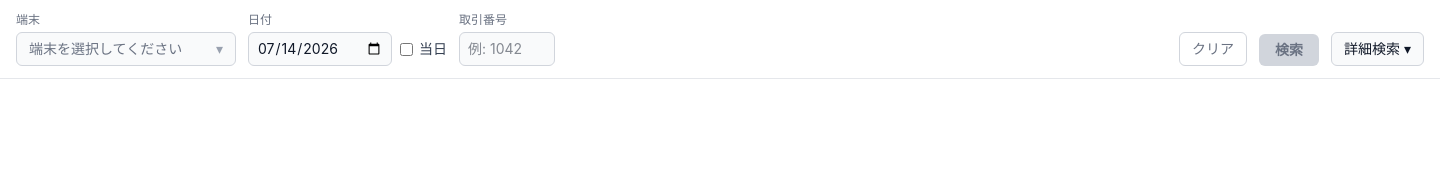
Test case: SearchBar › 範囲入力のバリデーション › 取引番号範囲がfrom > toのとき、エラーメッセージを表示し検索ボタンを無効化する
This screenshot has width=1440, height=195.
Click the button "端末を選択してください ▾" at (126, 49), box x1=16 y1=32 x2=236 y2=66
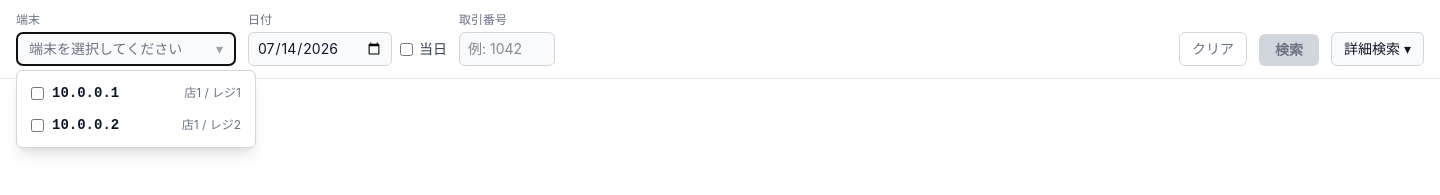
Click the text "10.0.0.1" at (86, 93), box x1=52 y1=83 x2=119 y2=103
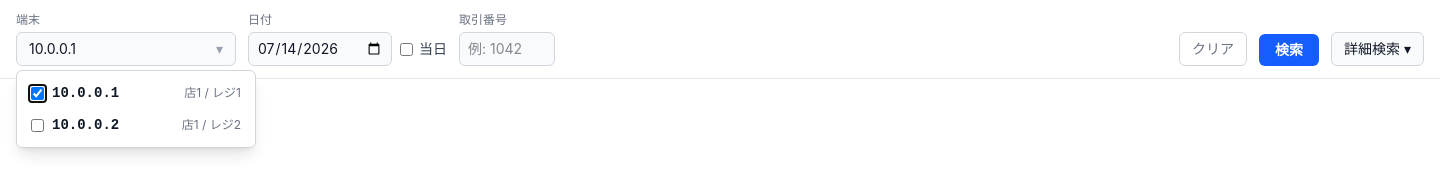
Click the button "詳細検索 ▾" at (1378, 49), box x1=1331 y1=32 x2=1424 y2=66
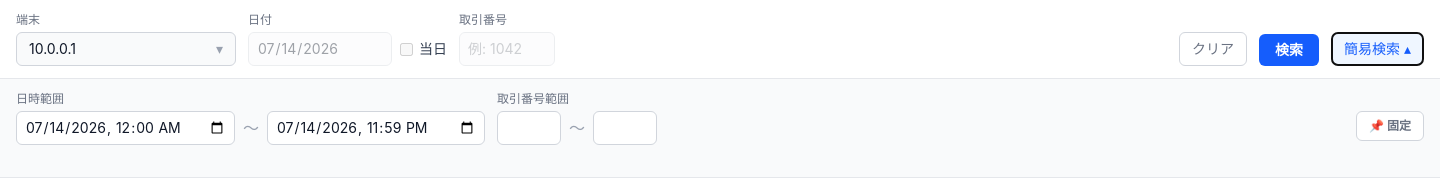
Type "20" into the number field named "取引番号範囲(開始)" at (529, 128), box x1=497 y1=111 x2=561 y2=145
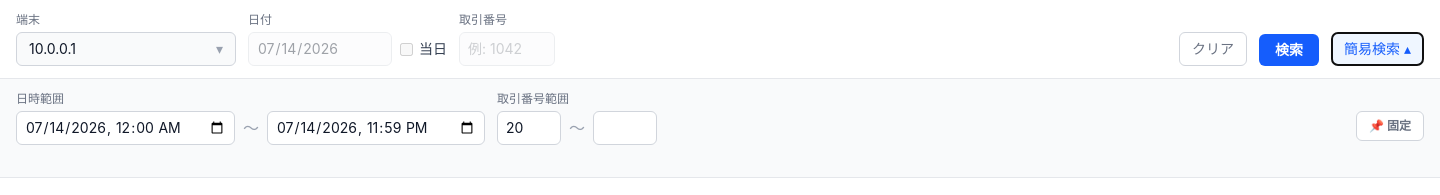
Type "10" into the number field named "取引番号範囲(終了)" at (625, 128), box x1=593 y1=111 x2=657 y2=145
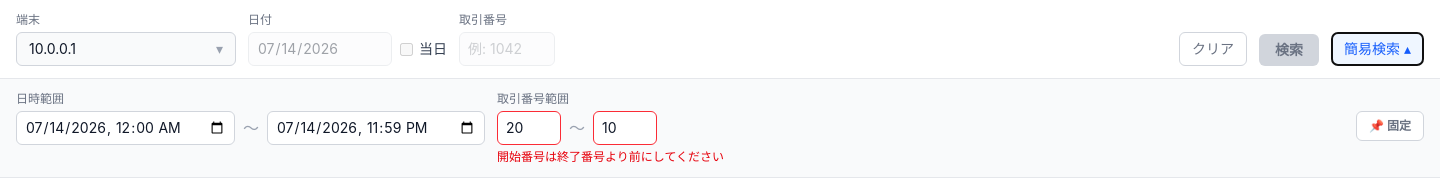
Check: the button "検索" is disabled, box x1=1259 y1=34 x2=1319 y2=66
